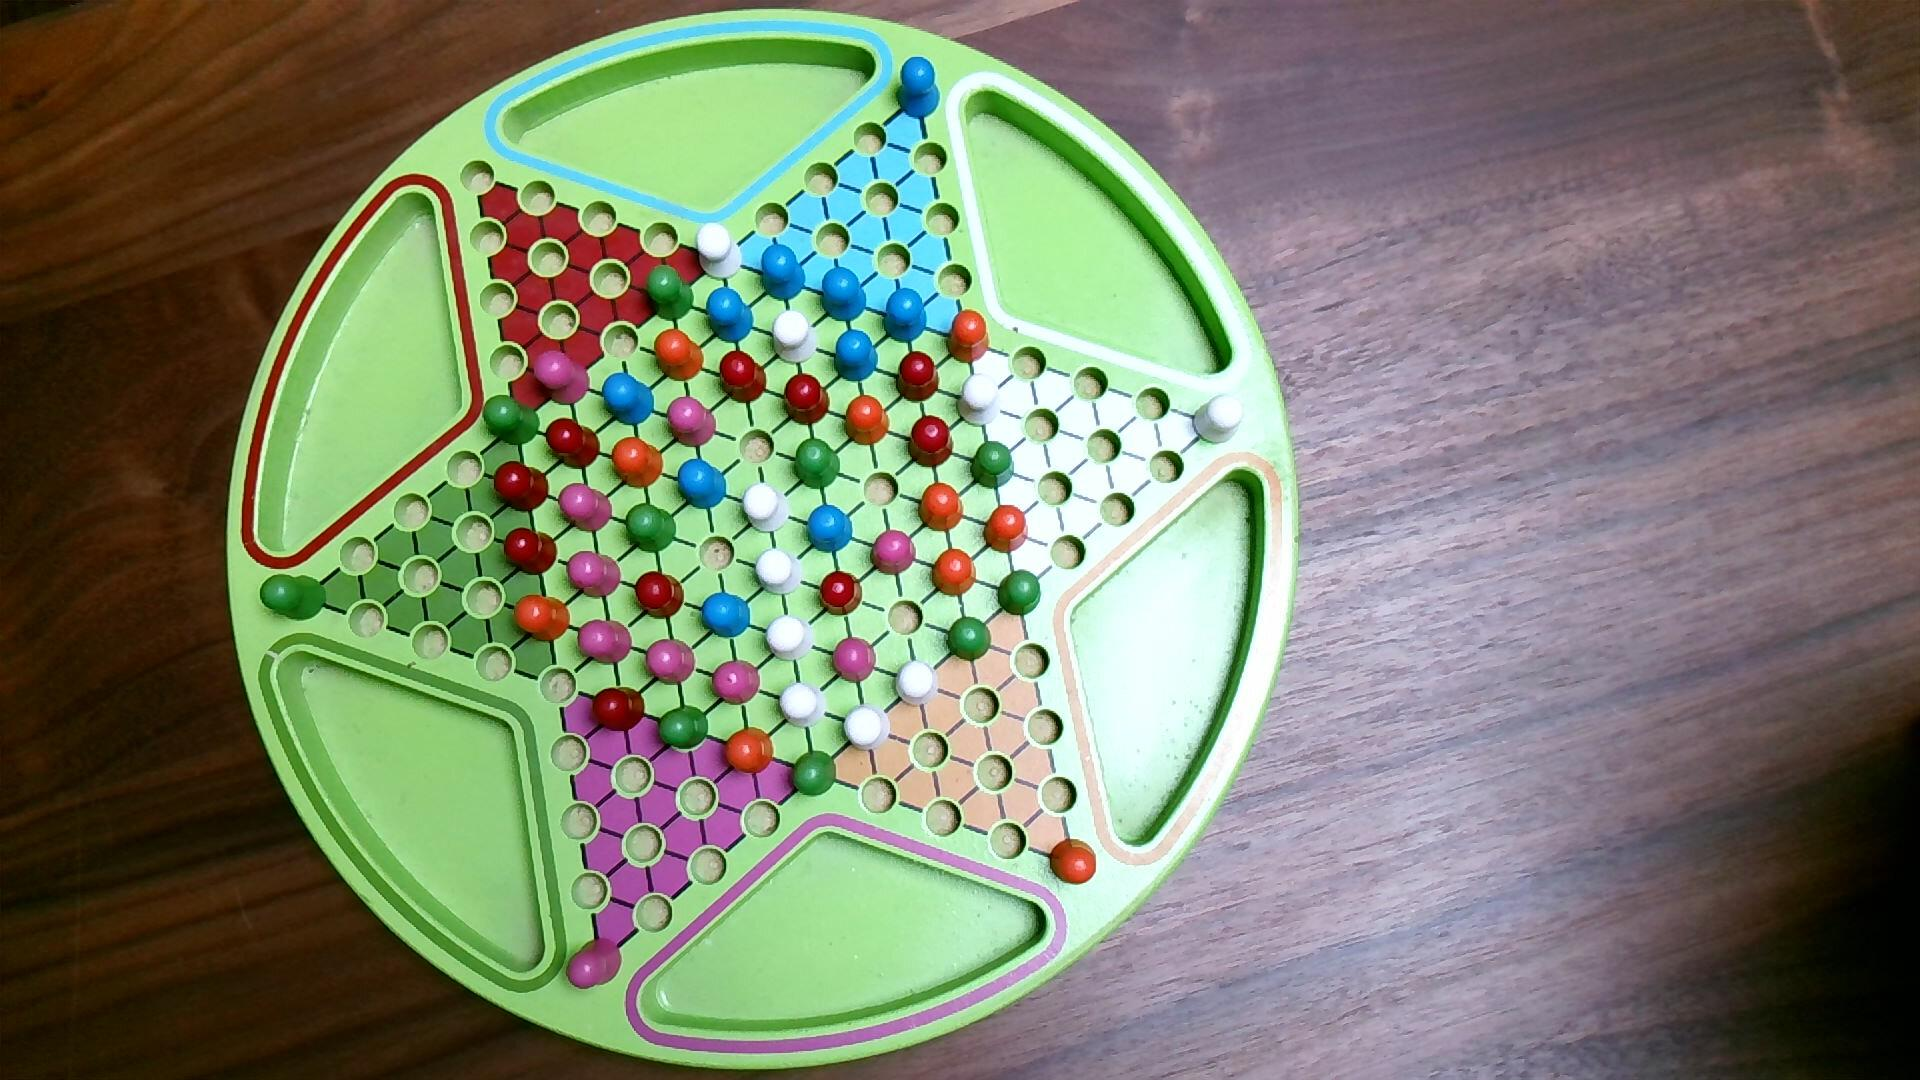B: (600, 371, 655, 429), (895, 55, 943, 123), (758, 243, 808, 303), (705, 286, 756, 345), (820, 265, 868, 324), (676, 458, 728, 512), (804, 502, 855, 555), (700, 591, 753, 641), (832, 328, 880, 384), (884, 287, 928, 345)
G: (258, 574, 328, 622), (483, 394, 542, 448), (645, 264, 696, 323), (624, 502, 679, 555), (793, 436, 843, 492), (655, 704, 711, 752), (789, 750, 839, 799), (945, 615, 994, 665), (996, 568, 1043, 618), (969, 439, 1015, 491)
O: (512, 593, 572, 644), (651, 328, 705, 384), (611, 436, 665, 491), (945, 307, 992, 365), (916, 481, 967, 534), (723, 727, 775, 777), (982, 502, 1031, 556), (843, 394, 891, 448), (1048, 837, 1098, 887), (930, 549, 978, 597)
R: (492, 460, 551, 516), (545, 417, 603, 471), (502, 526, 560, 578), (717, 349, 769, 407), (633, 568, 687, 621), (589, 686, 647, 735), (782, 372, 832, 427), (907, 415, 955, 469), (894, 349, 942, 404), (818, 570, 865, 618)
R2: (531, 349, 592, 407), (566, 938, 625, 992), (564, 550, 624, 603), (556, 483, 616, 535), (665, 396, 719, 450), (576, 618, 634, 669), (645, 638, 698, 687), (711, 658, 764, 707), (829, 636, 880, 686), (869, 529, 919, 578)
W: (1192, 392, 1247, 446), (695, 222, 744, 282), (740, 481, 793, 535), (770, 309, 819, 367), (764, 615, 816, 665), (956, 373, 1004, 429), (777, 680, 828, 731), (843, 703, 893, 754), (754, 547, 804, 597), (893, 658, 942, 709)
